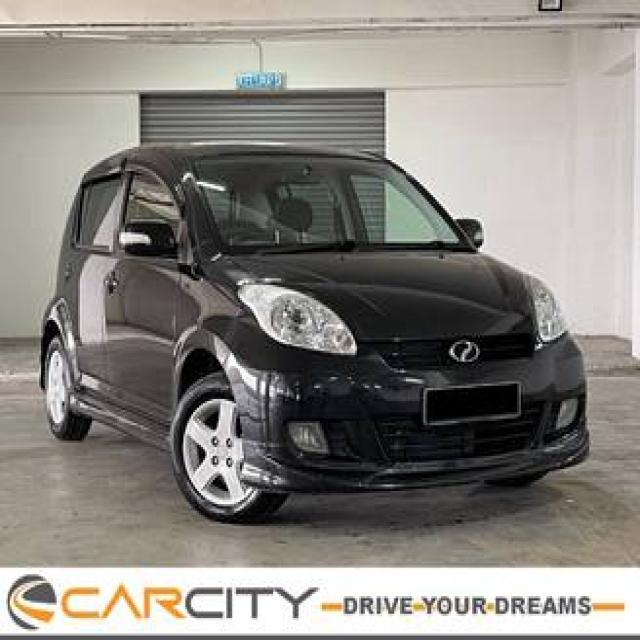PeroduaMyvi: (37, 138, 591, 524)
